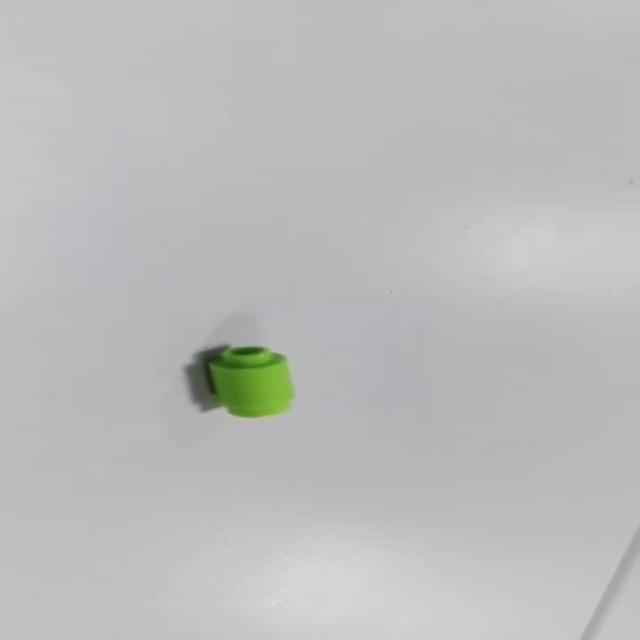S1x1x1: (204, 343, 298, 418)
